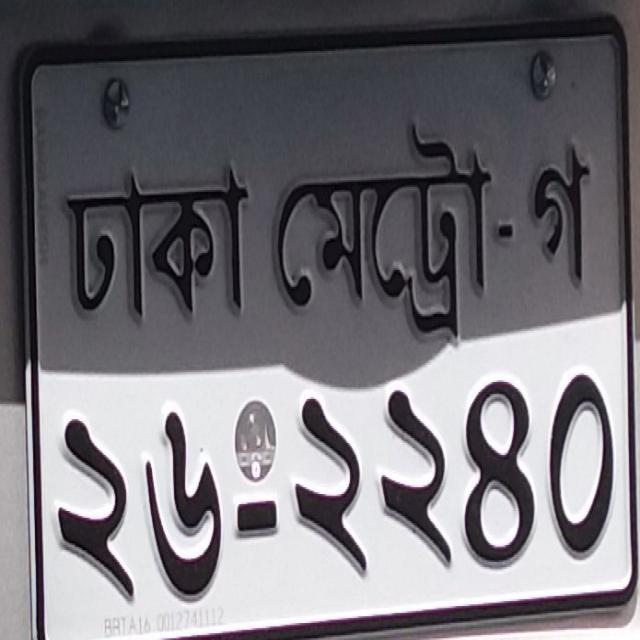numberplate: (18, 12, 637, 639)
